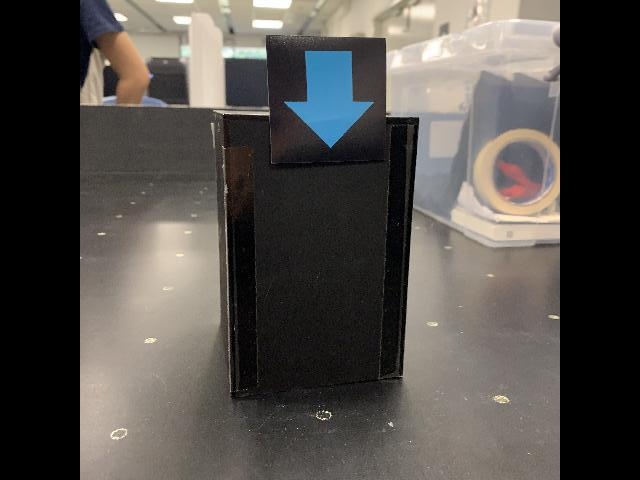down: (264, 33, 390, 167)
